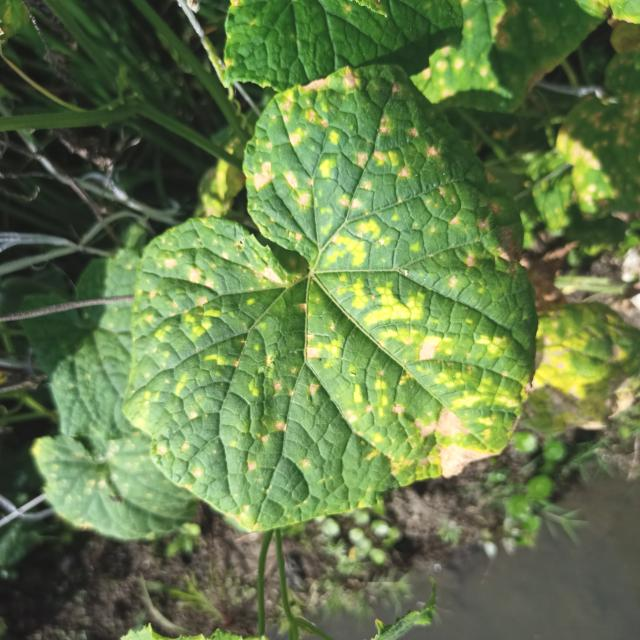disease_cucumber: (125, 60, 530, 515)
